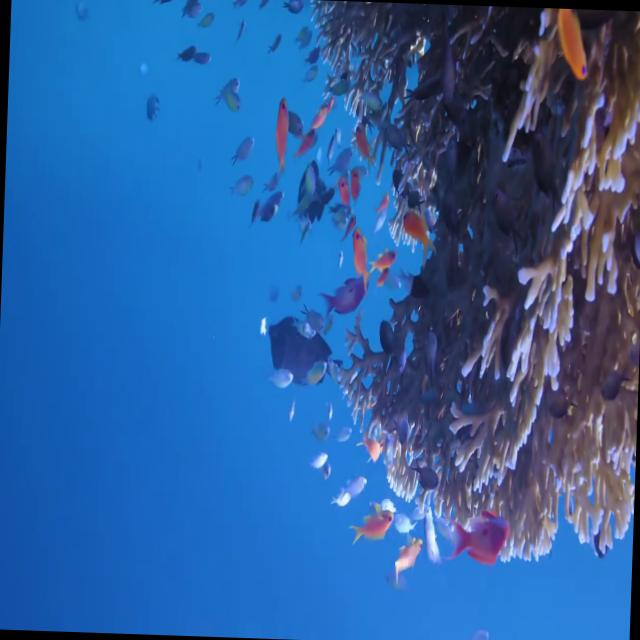fish: (450, 510, 510, 566), (390, 531, 423, 591), (347, 504, 396, 544), (401, 209, 436, 264), (350, 224, 376, 288), (272, 94, 292, 176)
